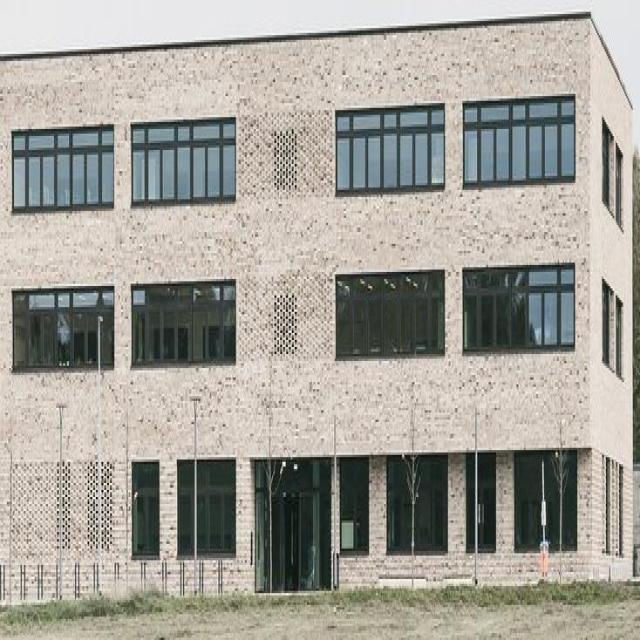door: (256, 456, 332, 590)
window: (11, 128, 116, 204), (337, 115, 442, 191), (131, 126, 235, 202), (463, 104, 567, 180), (338, 278, 442, 354), (468, 274, 572, 350), (132, 284, 236, 359), (14, 296, 118, 371), (515, 459, 576, 552), (179, 461, 234, 554), (387, 462, 447, 547), (132, 455, 160, 557), (338, 458, 366, 560), (468, 453, 496, 555), (603, 279, 611, 366), (603, 119, 610, 208), (616, 296, 621, 375), (617, 147, 621, 223)
